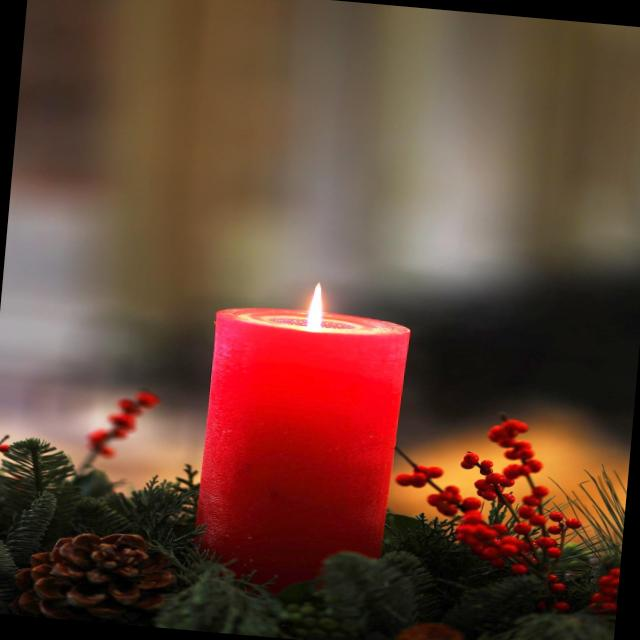Fire_Save: (187, 273, 414, 602)
